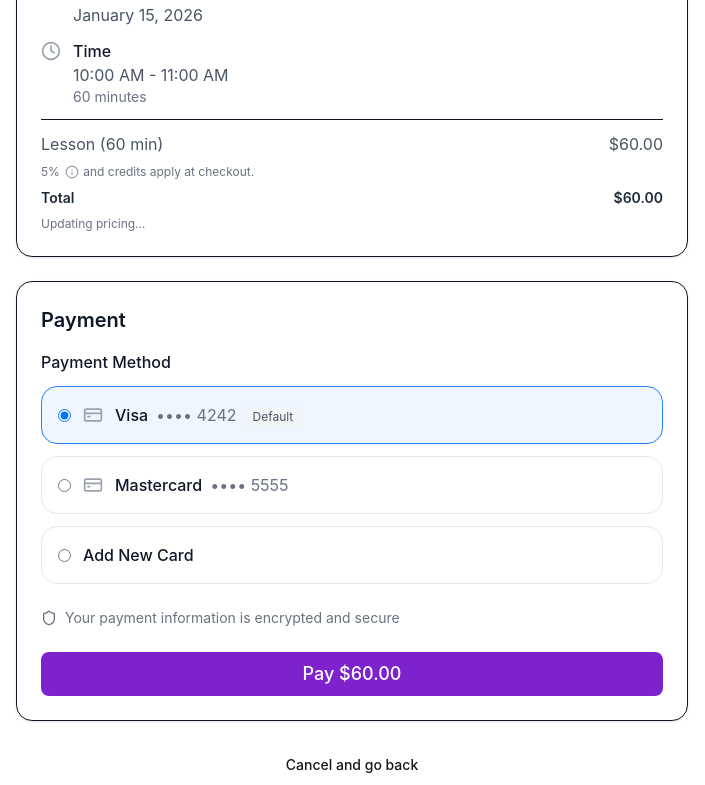
Test case: CheckoutFlow › Payment Processing › shows processing state while payment in progress
The image size is (705, 785).
(page scrolled)
expect the text "Visa" is shown: met, box [115,405,148,425]
What coordinates should you click on to do the following:
click the button "Pay $60.00"
I would click on:
 (352, 674)
Its box is [41,652,663,696].
(page scrolled)
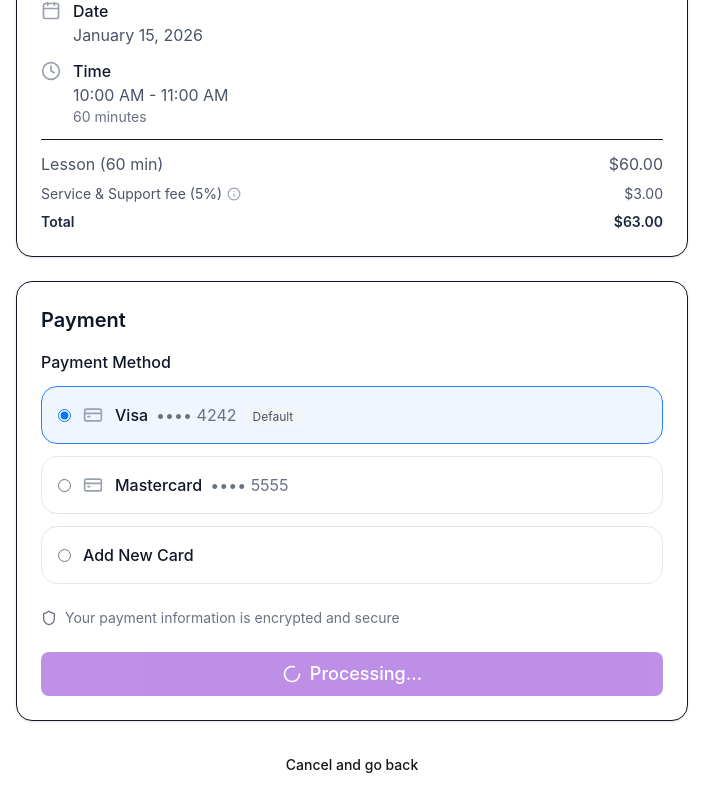
expect the button "Processing..." is shown: met, box [41,652,663,696]
